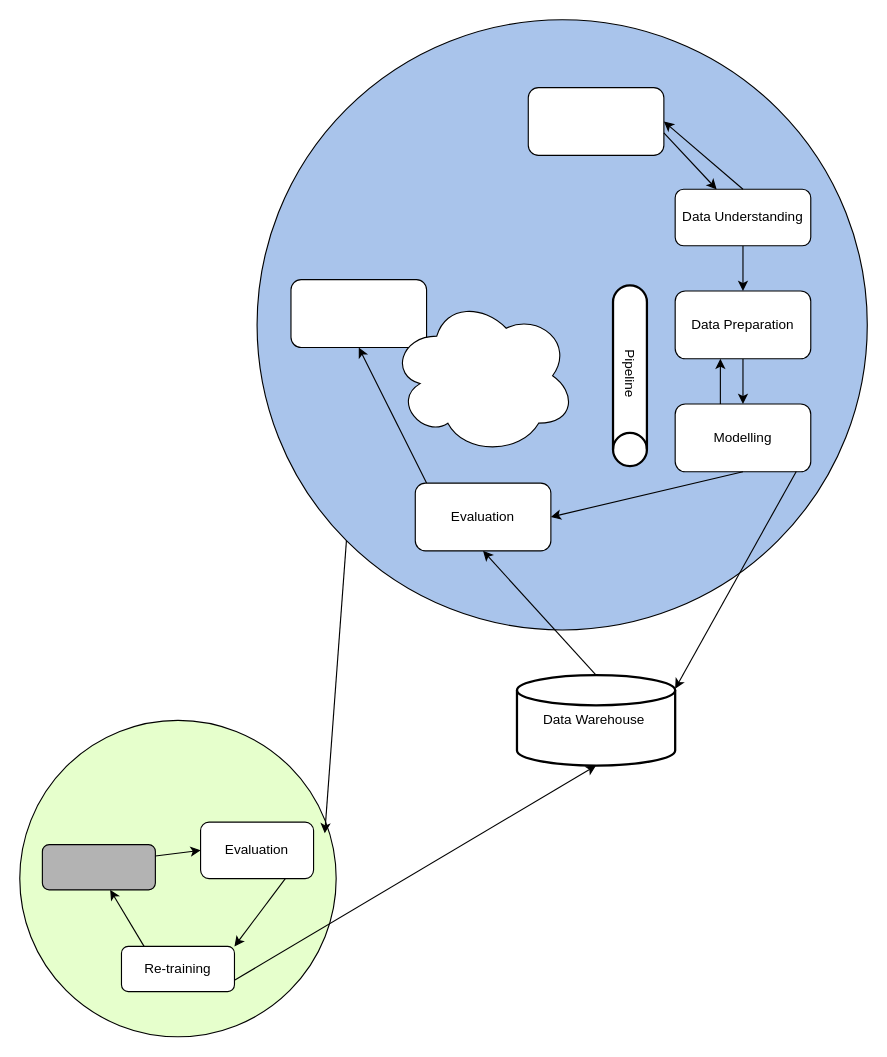
Image size: 887x1057. Some labels were removed from this diagram. Here are the shapes that lost their labels. From the top down, the centre of each, then its label:
(595,120): Business Understanding
(358,313): Deployment
(482,375): Streamlit Dashboard App
(98,867): Monitoring
